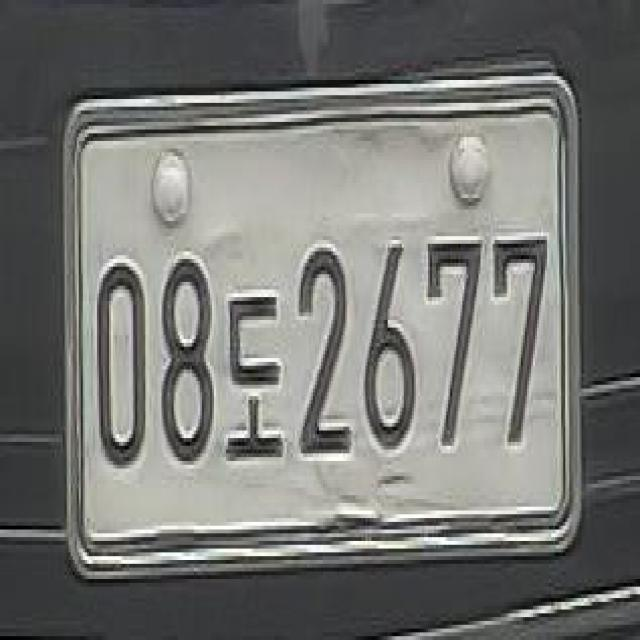illegal_plate: (65, 68, 589, 552)
